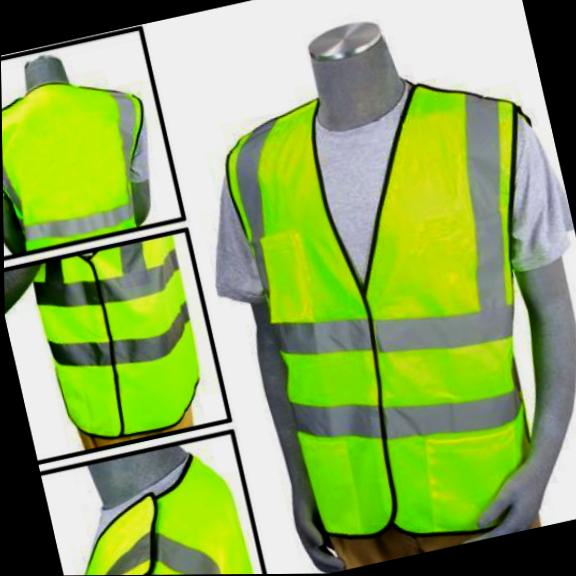safety_vest: (204, 44, 576, 571), (27, 231, 216, 451), (1, 66, 174, 258), (45, 444, 261, 576)
